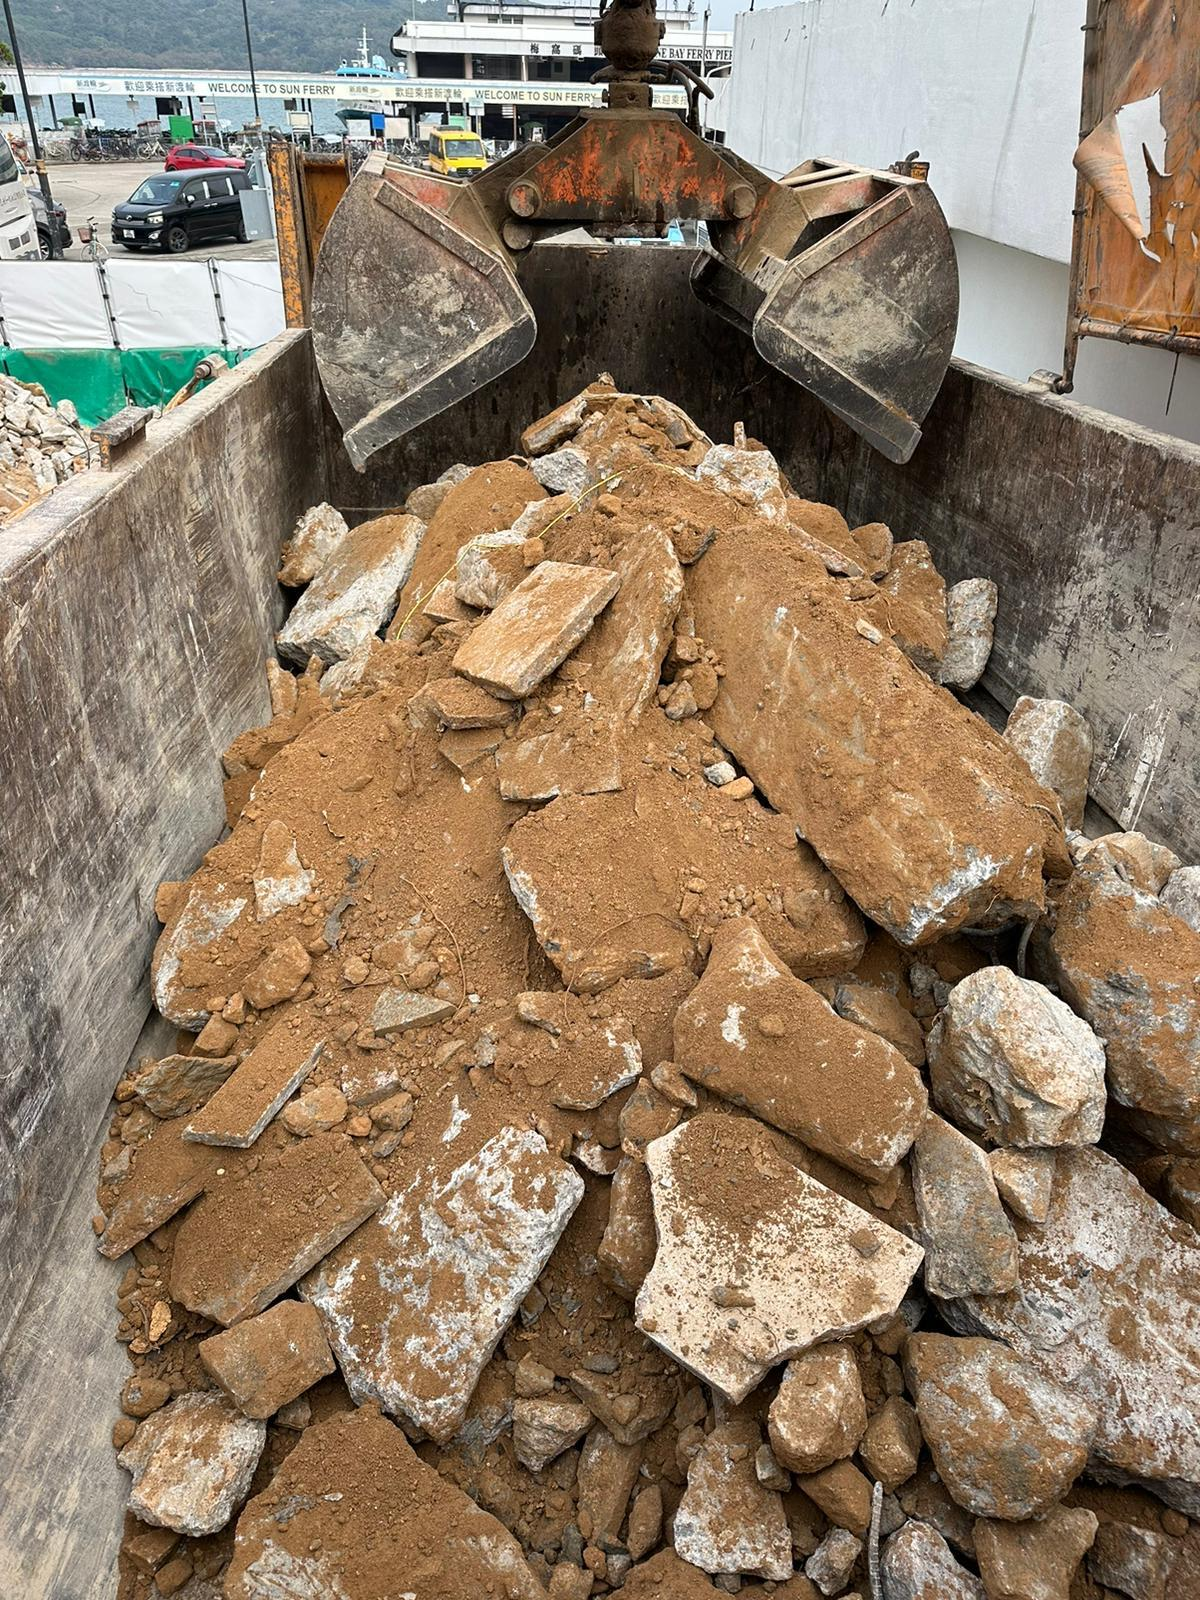dirt: (94, 377, 1197, 1597)
stone: (296, 1101, 585, 1443), (630, 1109, 925, 1404), (670, 913, 928, 1185), (923, 962, 1108, 1148), (449, 557, 621, 700)
